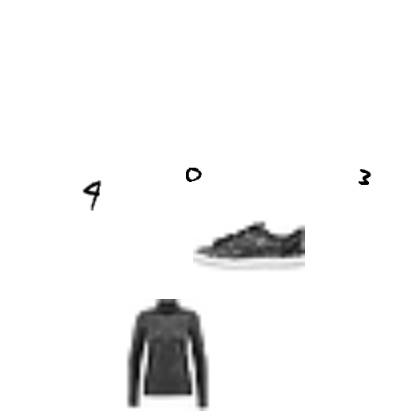0: (182, 163, 204, 185)
3: (354, 166, 376, 188)
4: (71, 170, 113, 212)
Pullover: (112, 299, 224, 411)
Sneaker: (193, 190, 305, 302)
